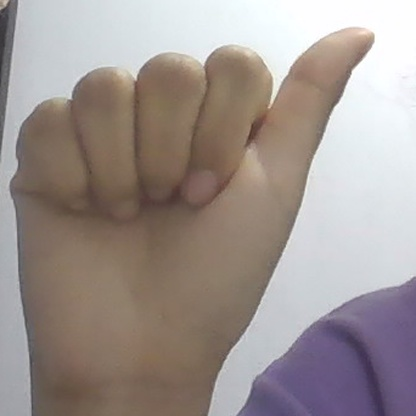A: (10, 28, 374, 416)
